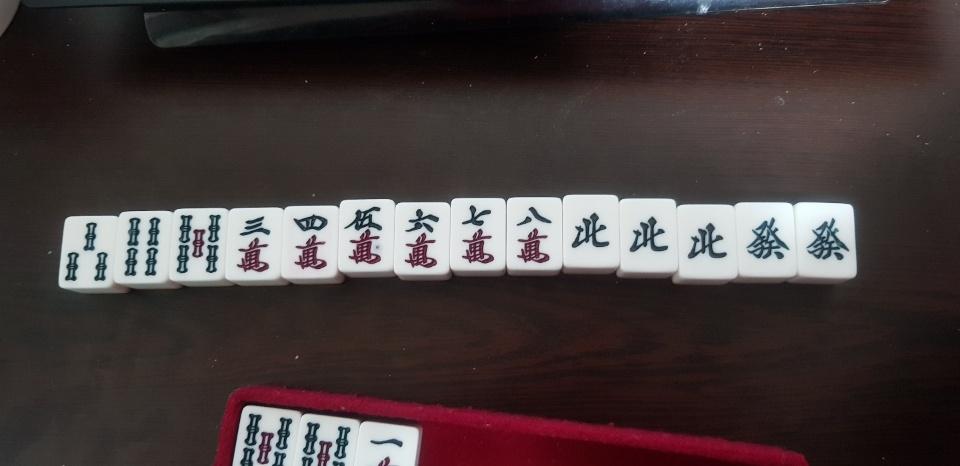honour_4: (613, 195, 677, 279), (558, 192, 620, 278), (674, 203, 736, 285)
honour_6: (738, 203, 802, 287), (799, 201, 861, 279)
man_3: (224, 212, 281, 283)
man_4: (281, 203, 341, 285)
man_5: (336, 197, 393, 276)
man_6: (388, 197, 450, 279)
man_7: (447, 192, 508, 279)
man_8: (504, 194, 563, 276)
sou_3: (54, 213, 118, 295)
sou_4: (118, 213, 174, 292)
sou_5: (172, 208, 227, 290)
